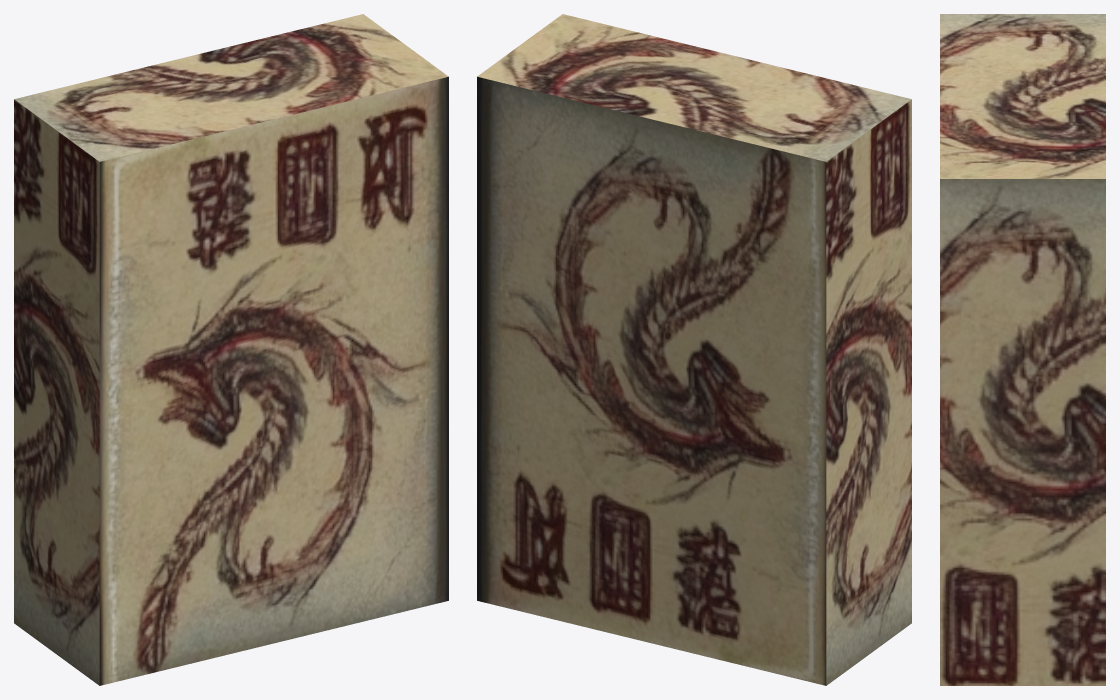
The model's file is SM_cigarettes_pack_07.fbx.
The picture shows the model from 3 angles, left to right: view 1: azimuth 30°, elevation 25°; view 2: azimuth 150°, elevation 25°; view 3: azimuth 270°, elevation 25°; orthographic projection. The views are drawn at different scales.
Visible parts, largest first — view 1: Box135; view 2: Box135; view 3: Box135.
Boxes of the visible parts, x1,y1,x2,y2 form: Box135: (14, 14, 448, 685); Box135: (477, 14, 911, 685); Box135: (940, 14, 1105, 685).
Bounding box in the file's own units: 7.67 × 11 × 3.26.
